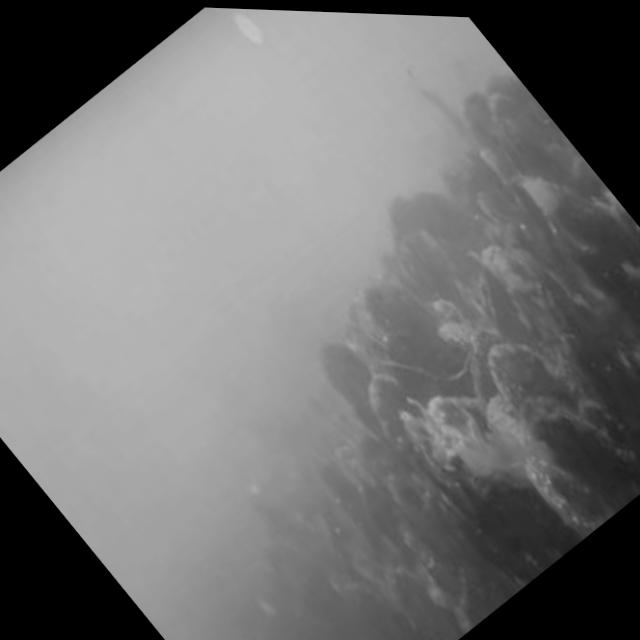Oyster-Closed: (522, 397, 640, 506), (525, 455, 621, 539), (425, 389, 484, 470), (433, 489, 479, 532), (475, 271, 504, 331), (422, 477, 441, 523), (439, 322, 474, 345)
Oyster-Indeterminate: (403, 412, 479, 519), (491, 341, 562, 416), (370, 366, 416, 458), (329, 343, 370, 421), (490, 389, 530, 449)
